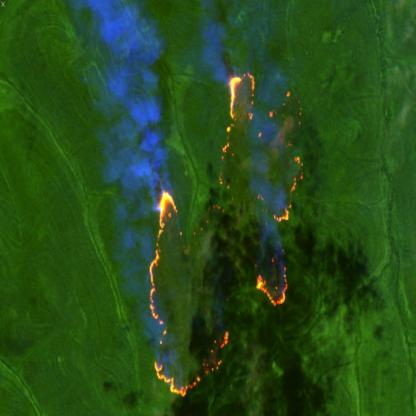fire: (145, 70, 307, 400)
